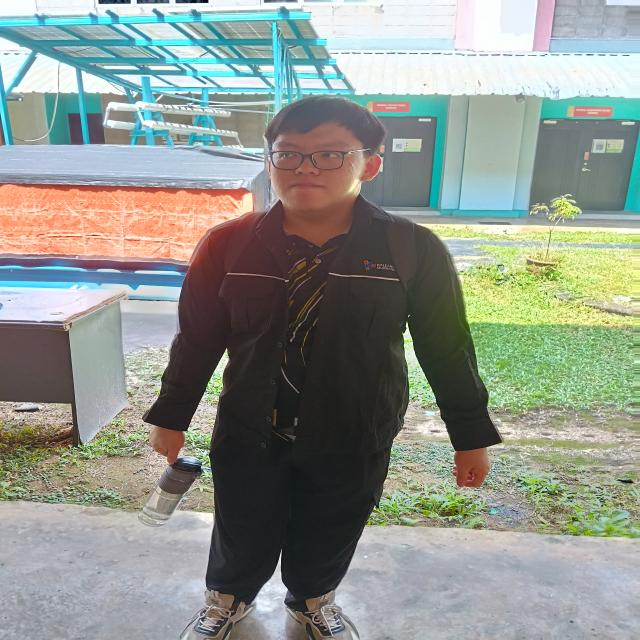person_with_labcoat: (143, 96, 501, 640)
